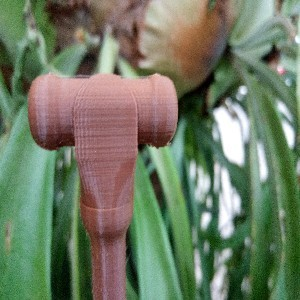palu: (27, 71, 179, 300)
